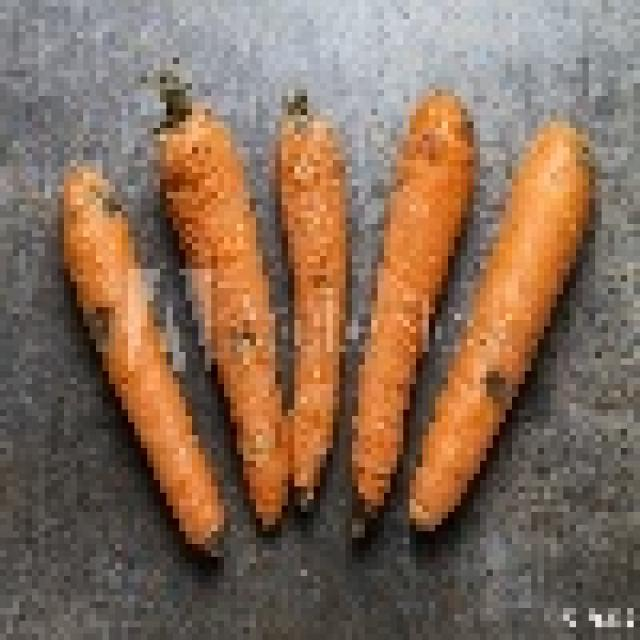Stale_Carrot: (403, 123, 594, 536), (57, 169, 224, 559), (153, 66, 283, 538), (360, 89, 469, 525), (283, 104, 347, 504)
